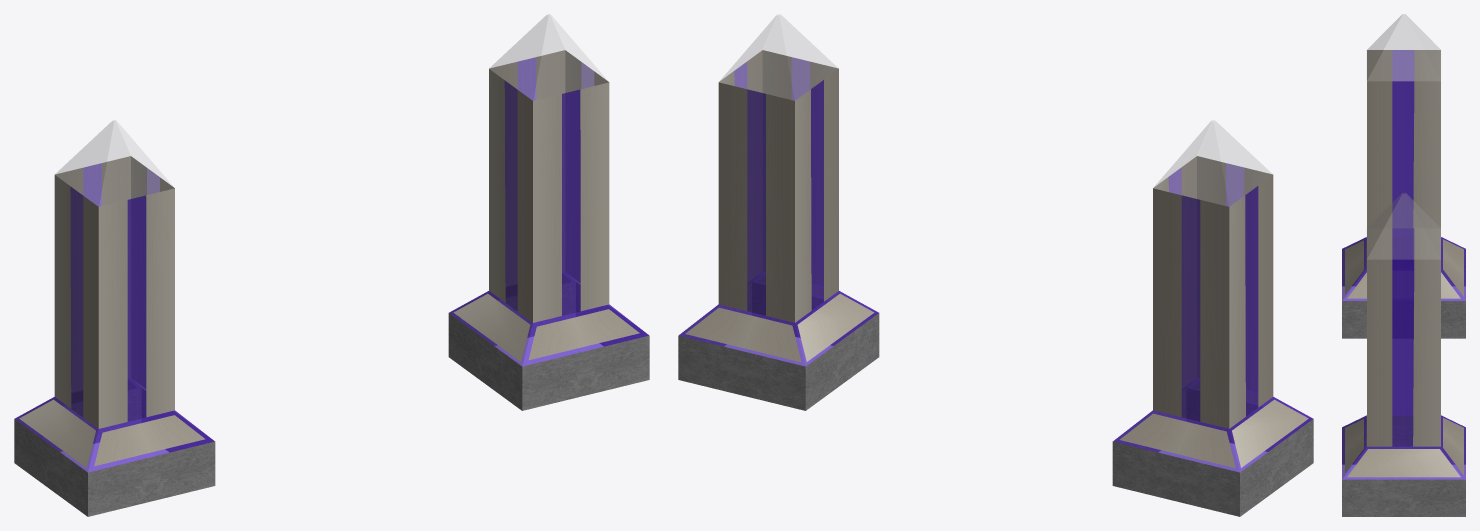
The model's file is Chegada.FBX.
The picture shows the model from 3 angles, left to right: view 1: azimuth 30°, elevation 25°; view 2: azimuth 150°, elevation 25°; view 3: azimuth 270°, elevation 25°; orthographic projection. The views are drawn at different scales.
Parts seen in each view (by area): view 1: Box001; view 2: Box001; view 3: Box001.
Part boxes in pixels (bbox=[...]): Box001: bbox=[14, 14, 649, 516]; Box001: bbox=[678, 14, 1313, 516]; Box001: bbox=[1342, 14, 1465, 516].
Bounding box in the file's own units: 132 × 79.61 × 30.
